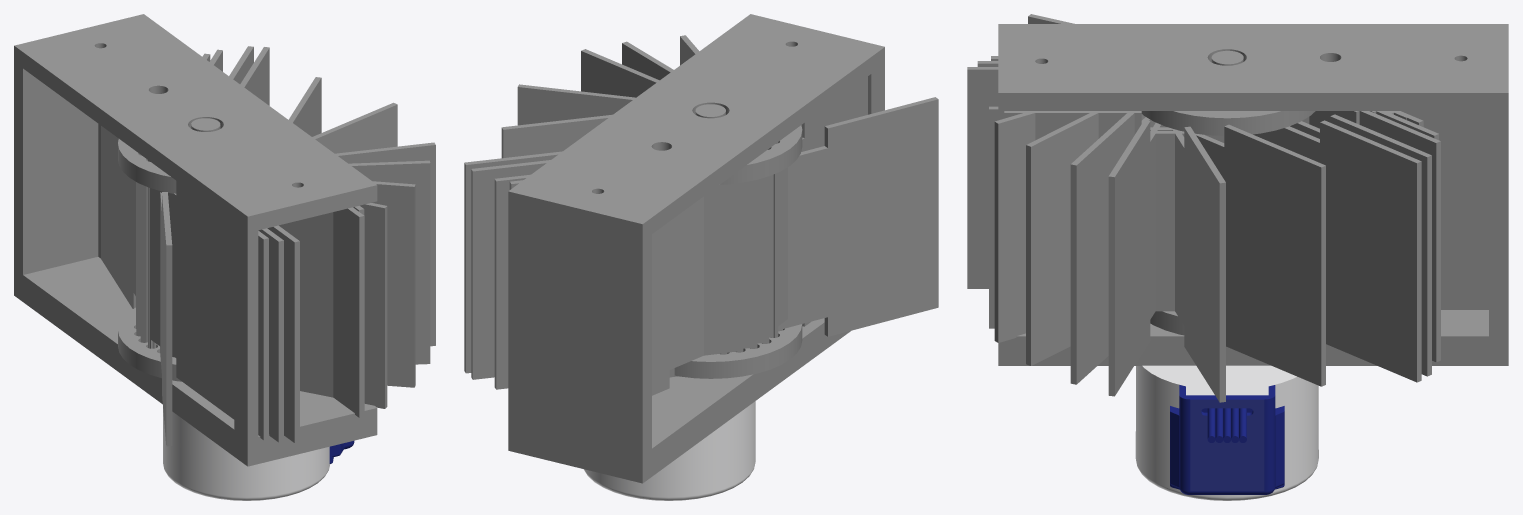
Rendered from flaps.obj.
The picture shows the model from 3 angles, left to right: view 1: azimuth 30°, elevation 25°; view 2: azimuth 150°, elevation 25°; view 3: azimuth 270°, elevation 25°; orthographic projection. The views are drawn at different scales.
Parts seen in each view (by area): view 1: Body5, Body1:15, Body1:10, Metal Case (Motor), Body1:4, Body1:9, Body1:21, Body1:8, Body12, Body1:11, Body1:12, Body1:14 (+8 smaller); view 2: Body5, Body1:14, Body1:21, Metal Case (Motor), Body1:2, Body12, Body1:15, Body1:20, Body1:23, Body1:6, Body1:19, Body1 (+6 smaller); view 3: Body5, Body1, Body1:1, Body1:6, Metal Case (Motor), Body1:9, Body1:7, Body1:3, Plastic Side, Body1:8, Body1:10, Body1:5 (+7 smaller).
Part boxes in pixels (x1,y1,x2,y2): Body5: (14,14,377,466); Body1:15: (148,160,234,419); Body1:10: (279,203,387,408); Metal Case (Motor): (163,409,330,500); Body1:4: (333,207,364,417); Body1:9: (371,181,415,387); Body1:21: (101,126,135,308); Body1:8: (349,160,430,364); Body12: (118,118,220,381); Body1:11: (267,225,299,442); Body1:12: (258,228,283,442); Body1:14: (160,192,172,446); Body5: (508,14,884,483); Body1:14: (778,97,938,336); Body1:21: (652,196,703,395); Metal Case (Motor): (584,401,755,500); Body1:2: (471,160,550,379); Body12: (674,104,802,378); Body1:15: (770,76,867,337); Body1:20: (669,184,727,377); Body1:23: (494,174,530,389); Body1:6: (517,84,635,125); Body1:19: (670,182,743,377); Body1: (501,114,612,158); Body5: (998,24,1508,365); Body1: (1195,124,1325,386); Body1:1: (1276,120,1421,382); Body1:6: (1172,126,1225,402); Metal Case (Motor): (1135,365,1318,500); Body1:9: (1026,112,1145,365); Body1:7: (1108,120,1165,396); Body1:3: (1302,111,1488,309); Plastic Side: (1170,385,1284,494); Body1:8: (1070,113,1155,384); Body1:10: (994,111,1035,342); Body1:5: (1004,111,1184,311).
Bounding box in the file's own units: 6.13 × 6.5 × 8.27.
